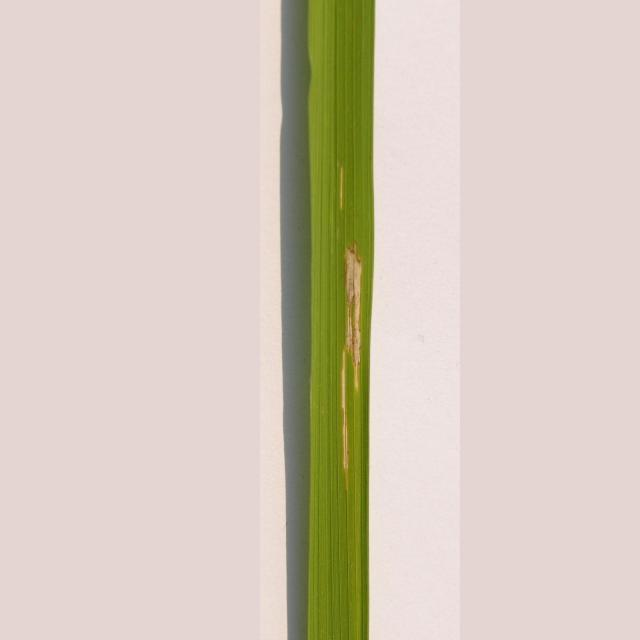leaf blight: (329, 159, 374, 480)
